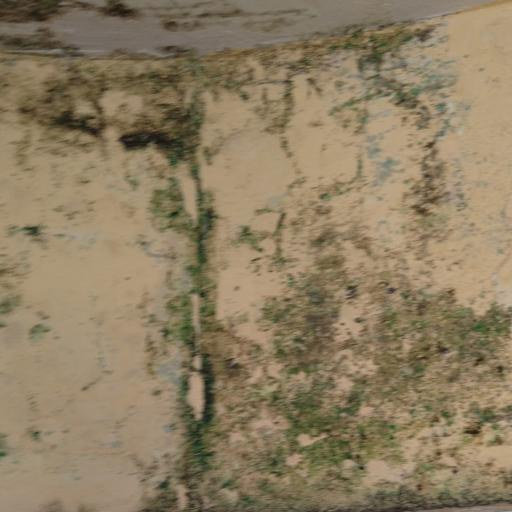algae: (42, 47, 512, 512)
